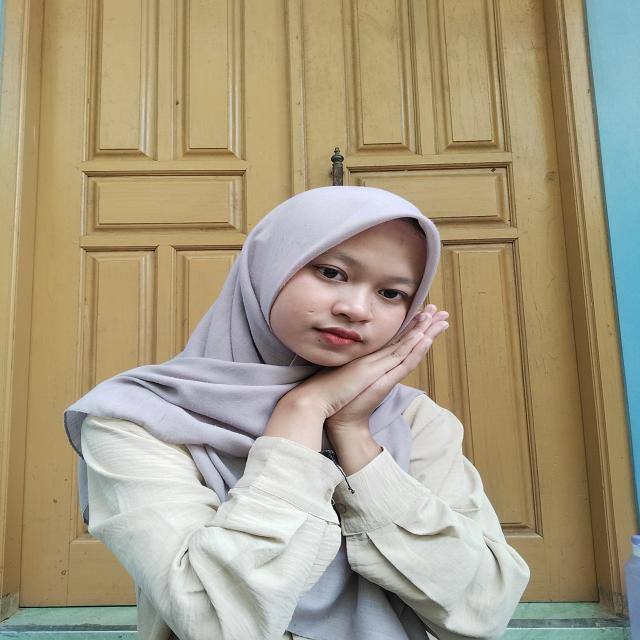tidur: (258, 303, 454, 458)
